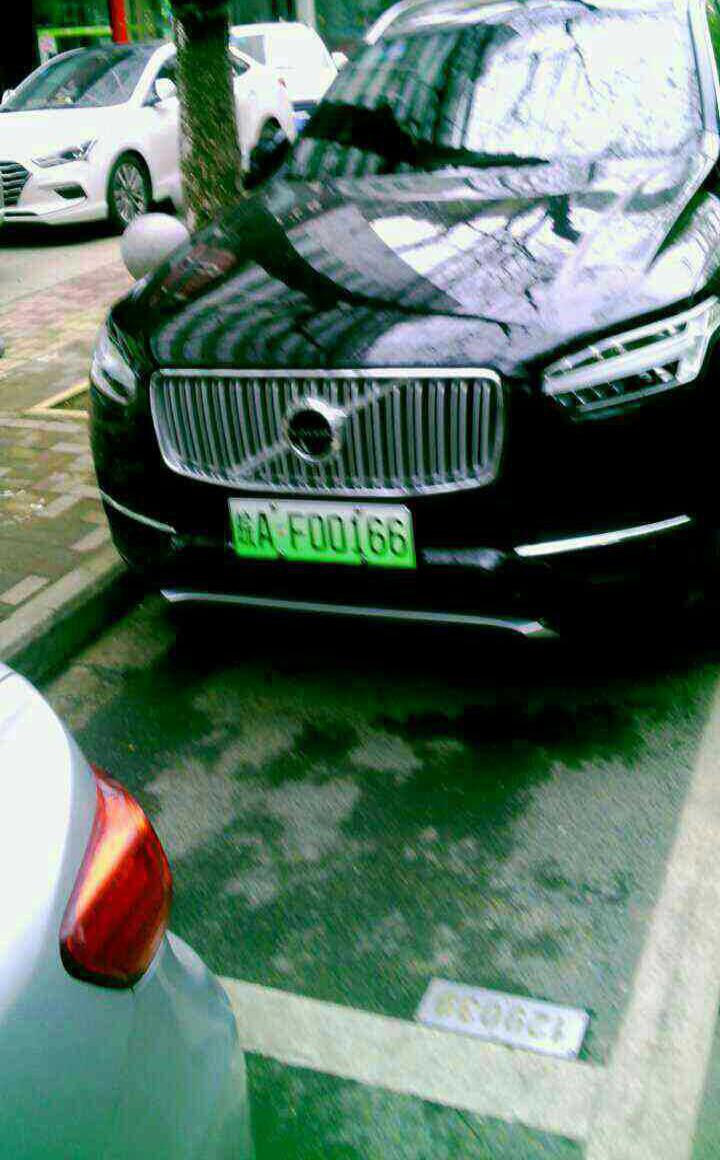car: (223, 491, 424, 566)
